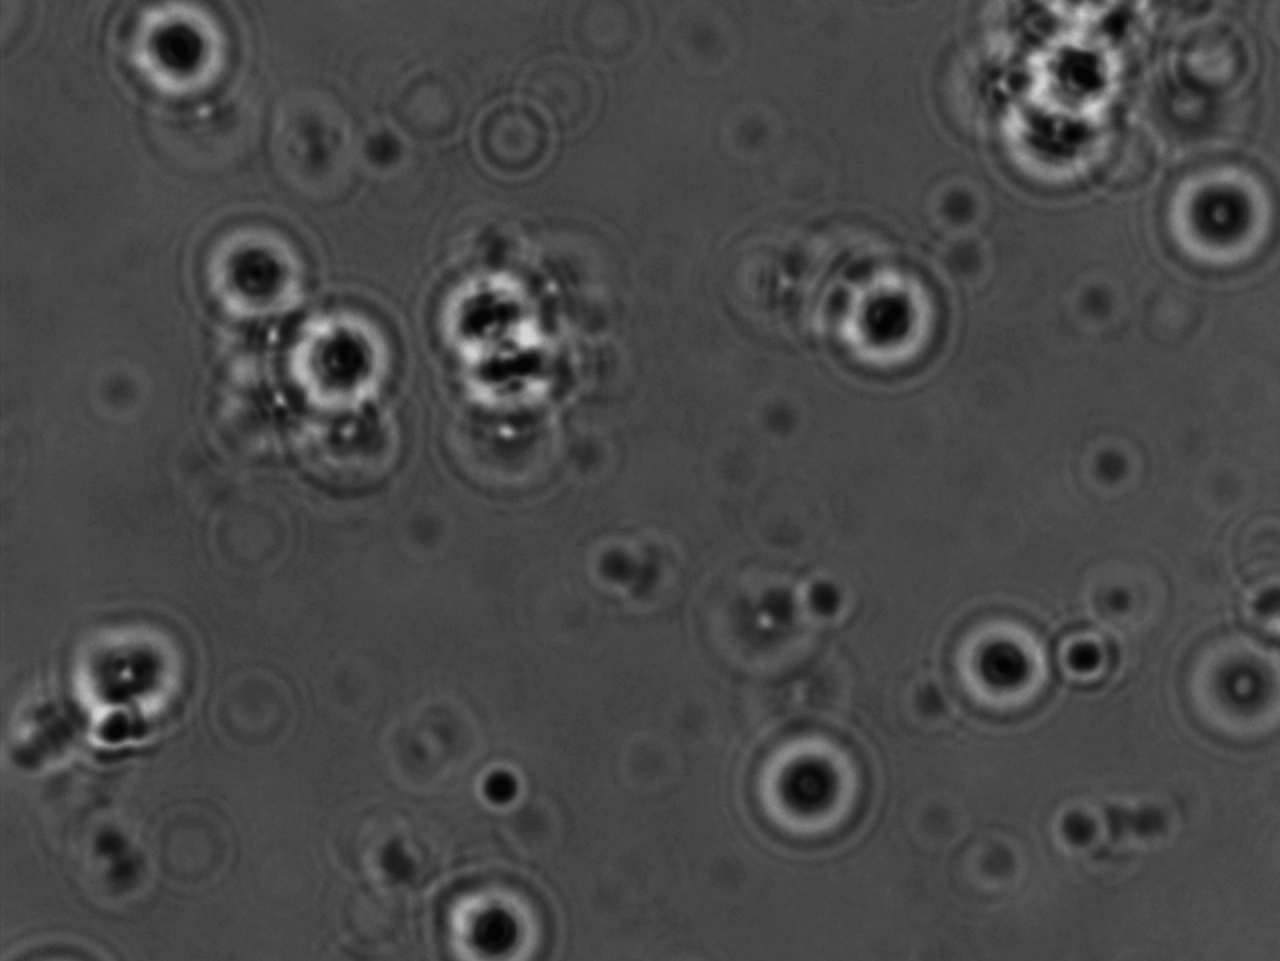depth:-16: (801, 243, 956, 409), (926, 589, 1071, 742), (735, 725, 888, 863), (243, 291, 400, 418), (1141, 155, 1279, 291), (185, 207, 305, 325)
